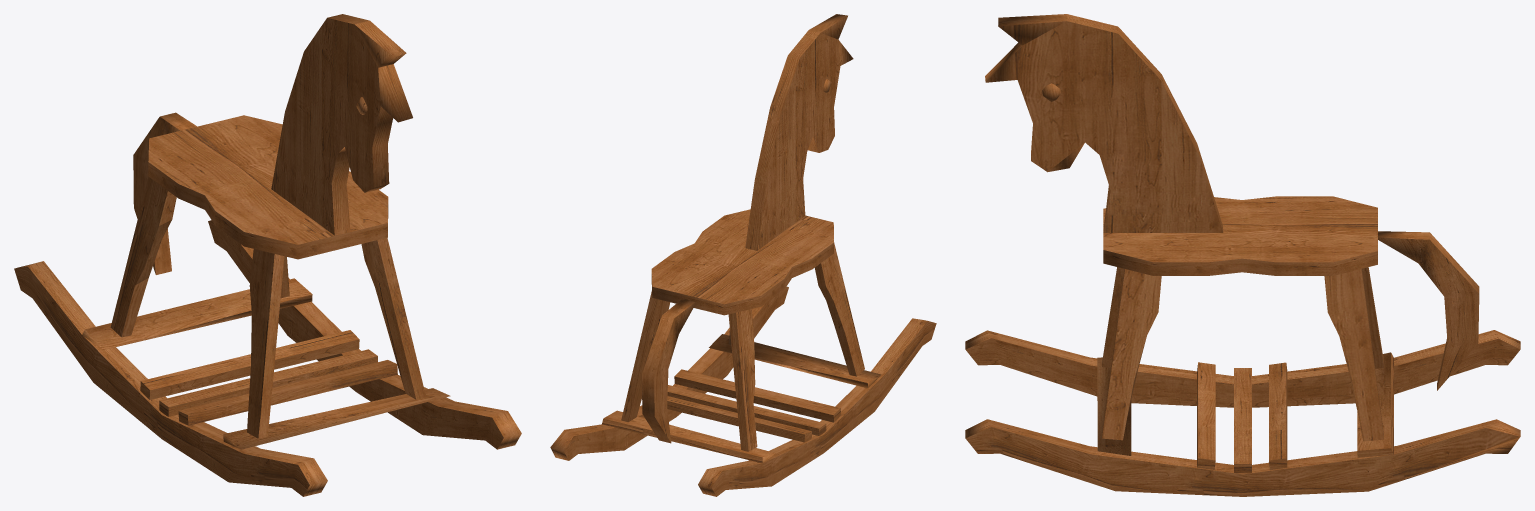
File: M_Home_Garden_Toy_Horse.fbx
3 renders of one model, left to right at view 1: azimuth 30°, elevation 25°; view 2: azimuth 150°, elevation 25°; view 3: azimuth 270°, elevation 25°, orthographic. The views are drawn at different scales.
Visible parts, largest first — view 1: M_Home_Garden_Toy_Horse; view 2: M_Home_Garden_Toy_Horse; view 3: M_Home_Garden_Toy_Horse.
Part boxes in pixels (x1=…): M_Home_Garden_Toy_Horse: x1=14, y1=14, x2=521, y2=496; M_Home_Garden_Toy_Horse: x1=550, y1=14, x2=936, y2=496; M_Home_Garden_Toy_Horse: x1=965, y1=14, x2=1520, y2=496.
Bounding box in the file's own units: 40.15 × 83.14 × 97.03.
